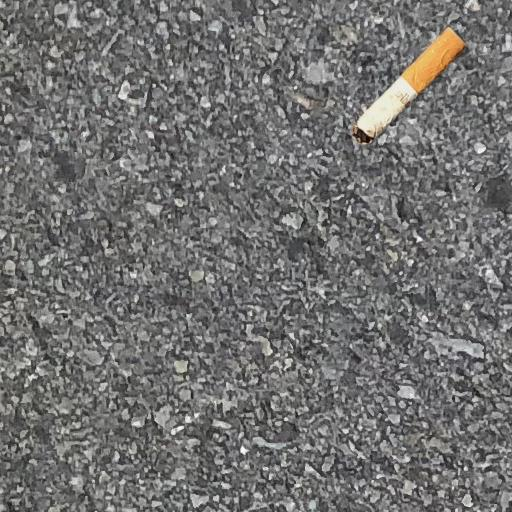smoke: (353, 28, 466, 144)
